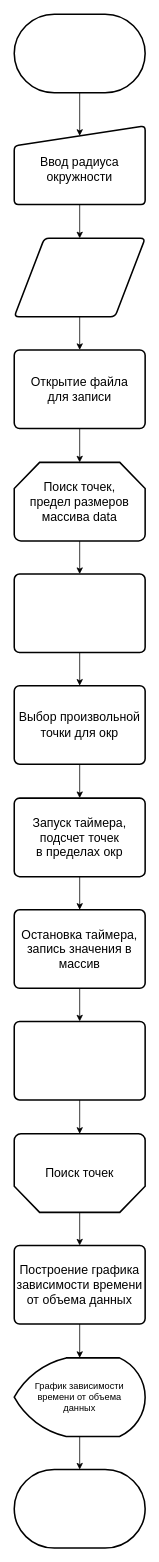
The diagram is 159 pixels wide and 1562 high, and some of its shapes have lost their labels. Each missing label, with the box of its shape:
Генерация n-точек: (13, 573, 146, 653)
Запись значений в документ (data_size, time, cnt): (13, 1020, 146, 1100)
Конец: (13, 1468, 146, 1548)
Начало: (13, 13, 146, 93)
Радиус окружности radius: (13, 237, 146, 317)
